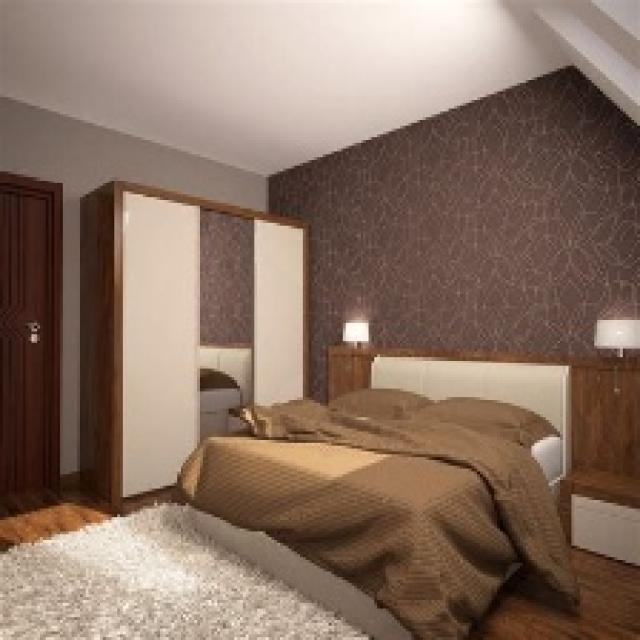Bed: (174, 343, 577, 637)
